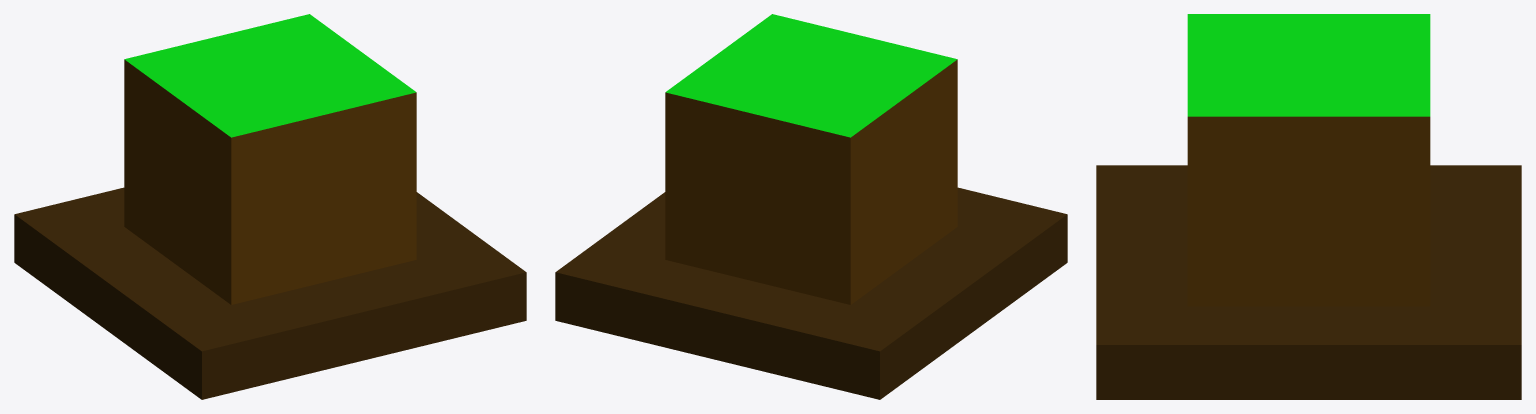
File: case_mur.glb
The picture shows the model from 3 angles, left to right: view 1: azimuth 30°, elevation 25°; view 2: azimuth 150°, elevation 25°; view 3: azimuth 270°, elevation 25°; orthographic projection. The views are drawn at different scales.
Visible parts, largest first — view 1: mur, case_mur; view 2: mur, case_mur; view 3: mur, case_mur.
Boxes of the visible parts, bbox=[...] form: mur: bbox=[124, 14, 416, 304]; case_mur: bbox=[14, 187, 526, 399]; mur: bbox=[665, 14, 957, 304]; case_mur: bbox=[555, 187, 1067, 399]; mur: bbox=[1187, 14, 1430, 306]; case_mur: bbox=[1096, 165, 1521, 399].
Size of the model in its own units: 1.4 by 0.89 by 1.4.
